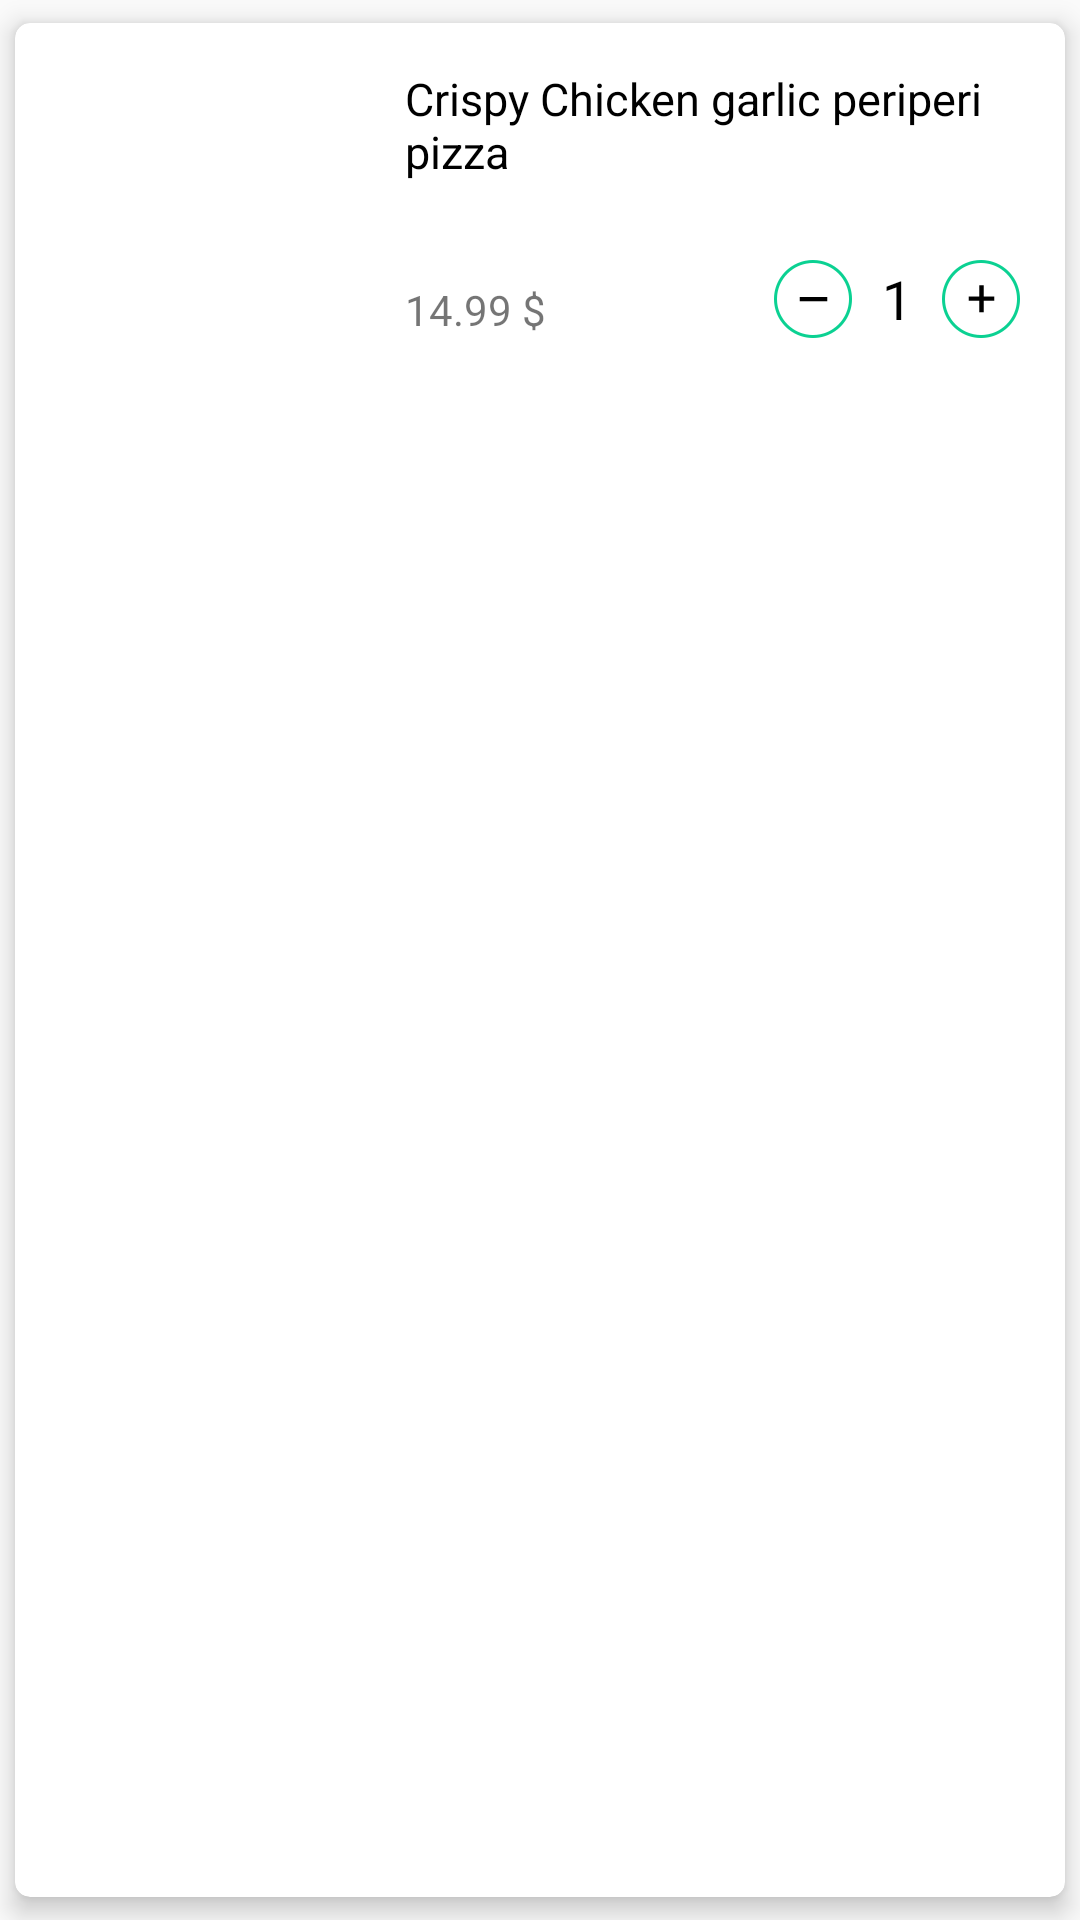

Icon click points for this 1080px×1920px phone screenshot, format (x,y):
add: (981,299)
remove innactive: (813,299)
